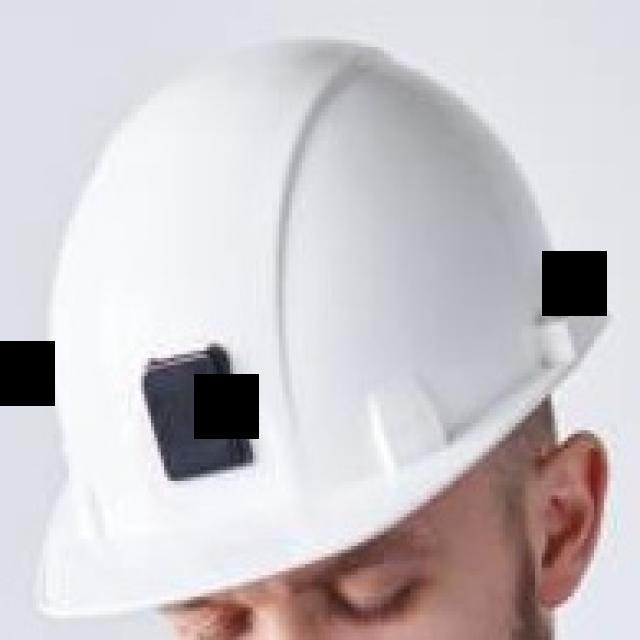white helmet: (27, 39, 581, 601)
